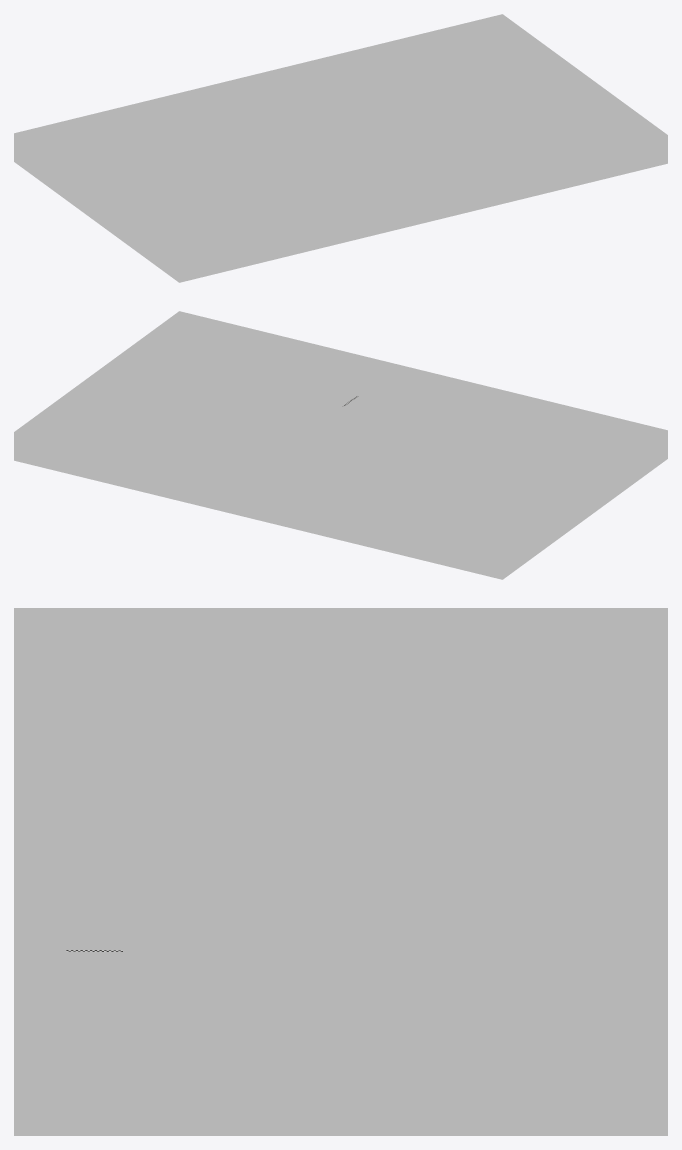
The model's file is jyllandsringen_open_cw.dae.
3 renders of one model, top to bottom at view 1: azimuth 30°, elevation 25°; view 2: azimuth 150°, elevation 25°; view 3: azimuth 270°, elevation 25°, orthographic. The views are drawn at different scales.
Parts seen in each view (by area): view 1: field, wall, road, il, ol, cl; view 2: field, wall, road, il, ol, cl; view 3: field, wall, road, ol, il, cl.
Part boxes in pixels (x1=…): field: x1=43, y1=42, x2=638, y2=254; wall: x1=14, y1=14, x2=667, y2=282; road: x1=92, y1=112, x2=614, y2=247; il: x1=120, y1=124, x2=588, y2=236; ol: x1=90, y1=111, x2=616, y2=247; cl: x1=106, y1=118, x2=601, y2=242; field: x1=43, y1=339, x2=638, y2=551; wall: x1=14, y1=311, x2=667, y2=579; road: x1=130, y1=360, x2=584, y2=542; il: x1=159, y1=372, x2=555, y2=531; ol: x1=128, y1=359, x2=587, y2=543; cl: x1=144, y1=366, x2=570, y2=537; field: x1=14, y1=664, x2=667, y2=1079; wall: x1=14, y1=608, x2=667, y2=1135; road: x1=66, y1=686, x2=615, y2=1079; ol: x1=61, y1=684, x2=620, y2=1079; il: x1=123, y1=710, x2=558, y2=1079; cl: x1=94, y1=698, x2=587, y2=1079.
Bounding box in the file's own units: 17.92 × 10.5 × 1.
